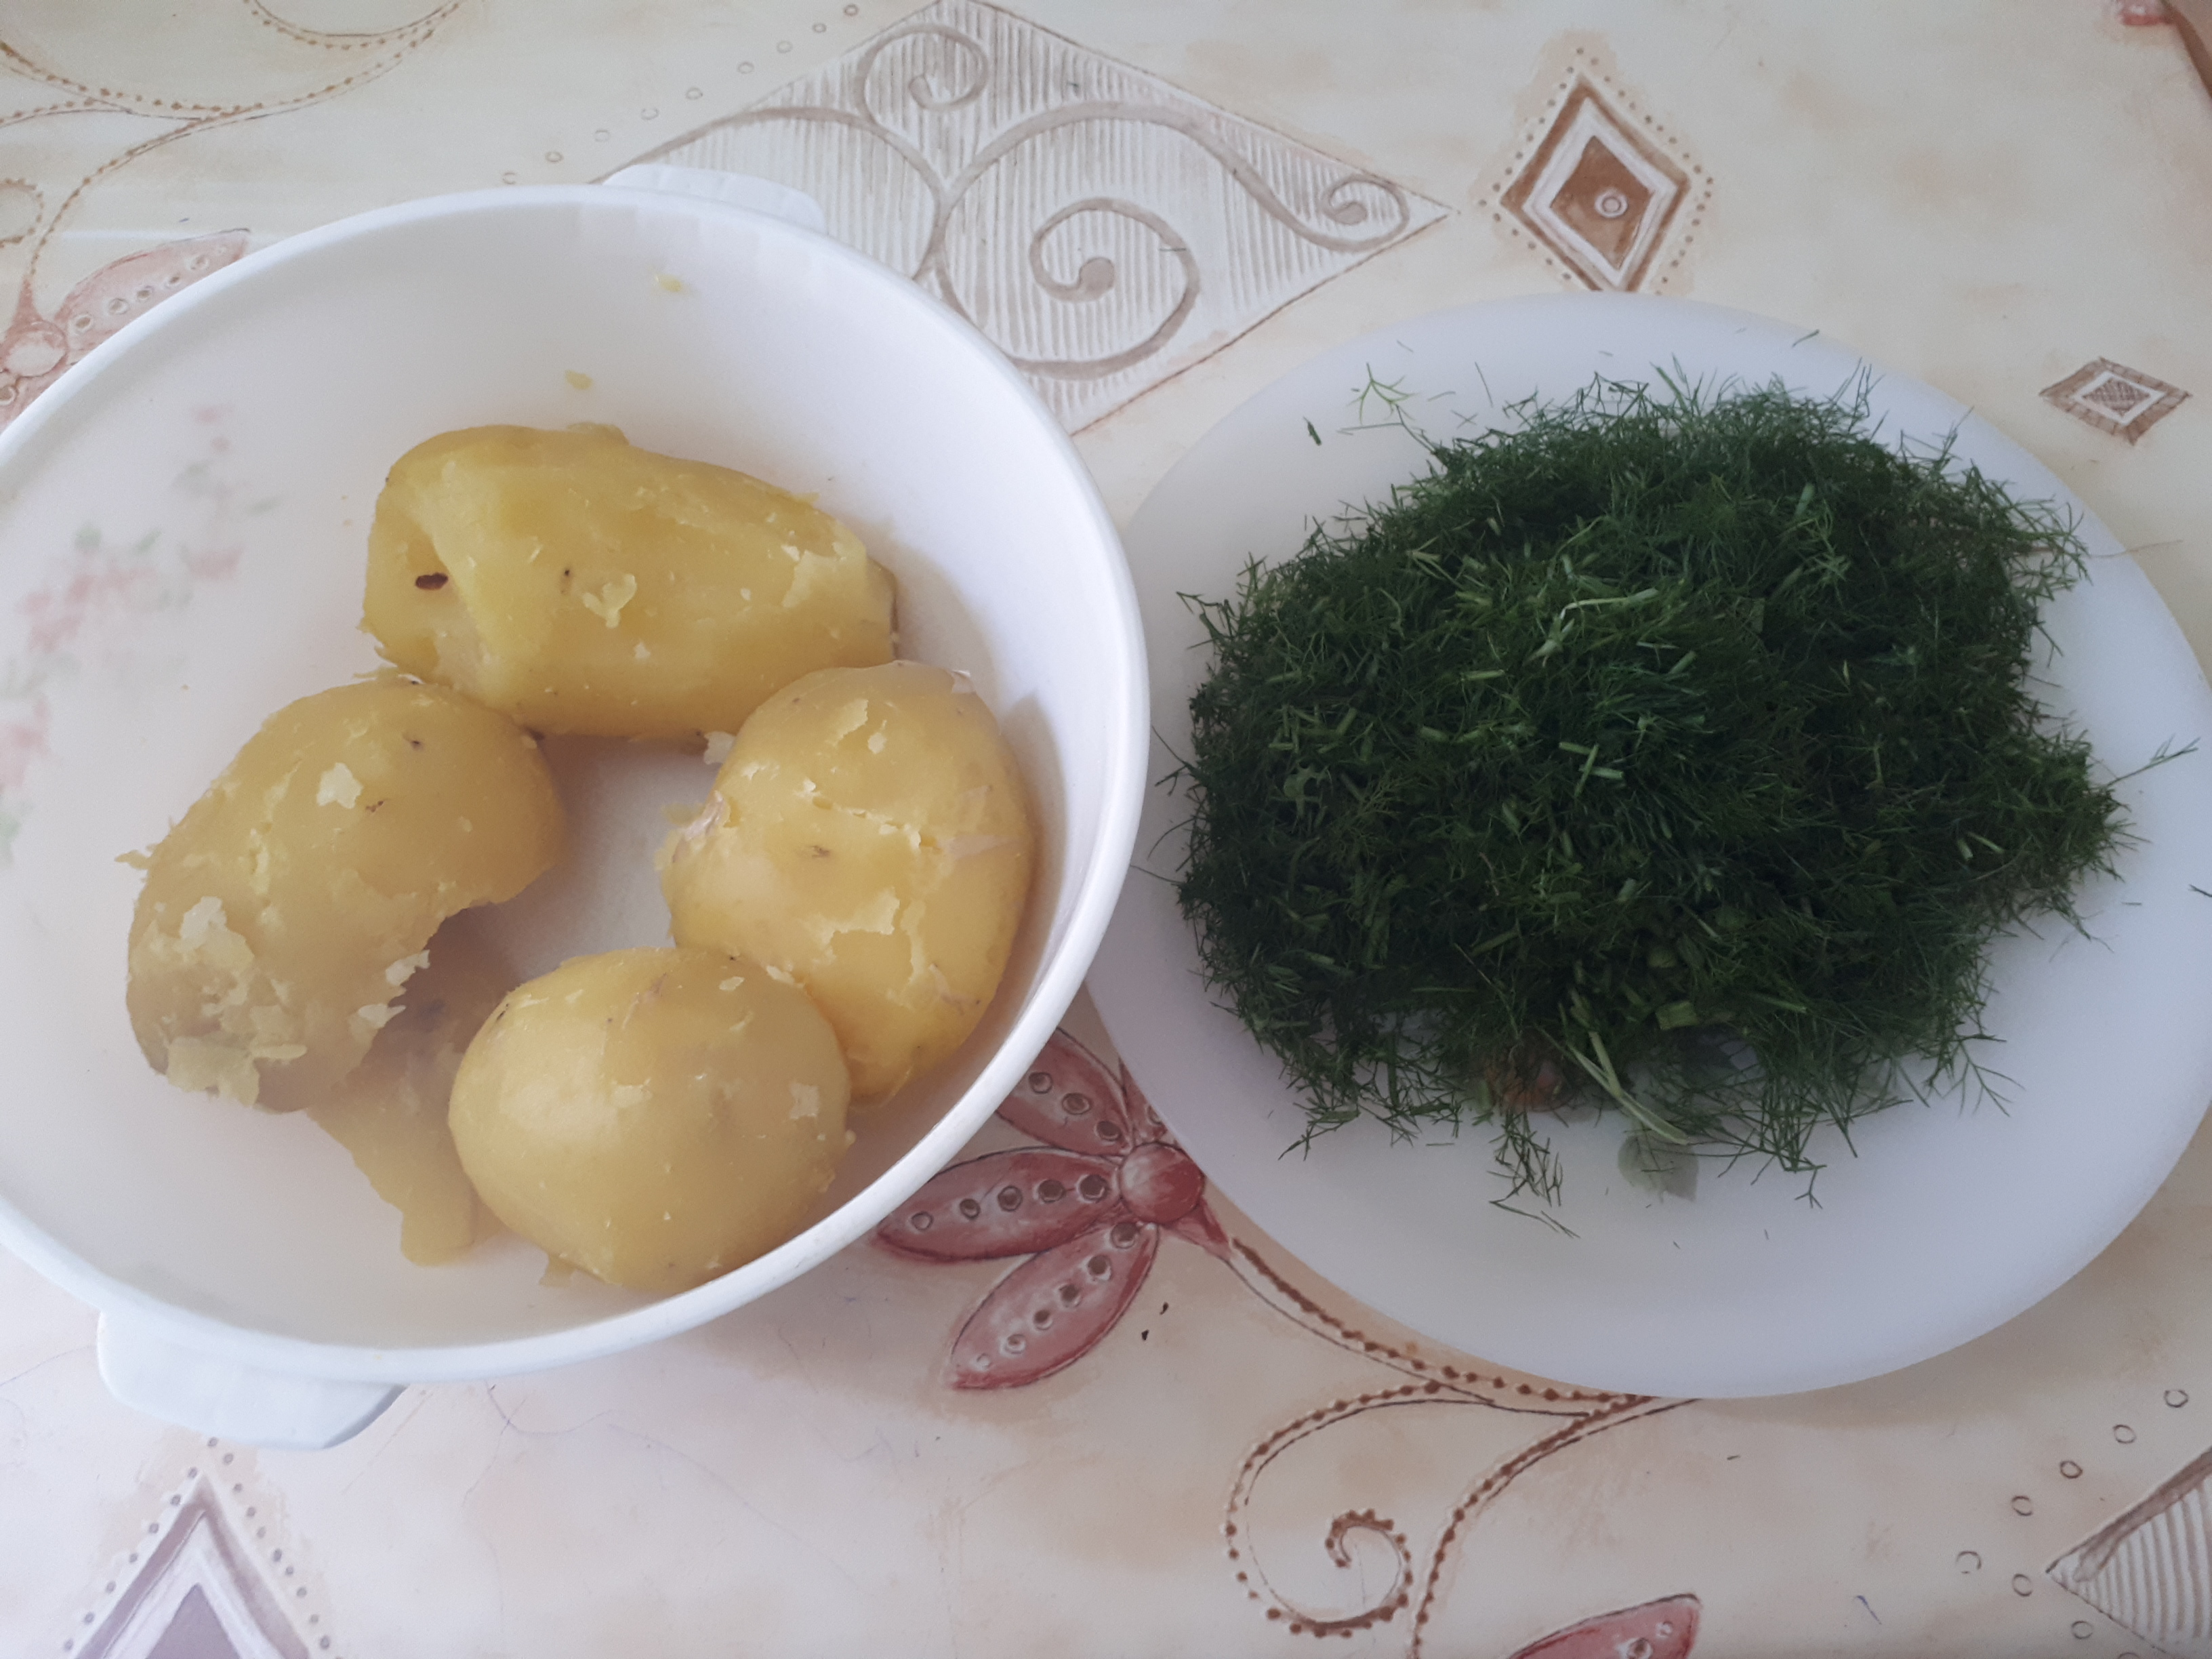boiled potatoes: (115, 701, 570, 1129), (413, 422, 880, 741), (655, 641, 1024, 1006), (444, 964, 885, 1246)
